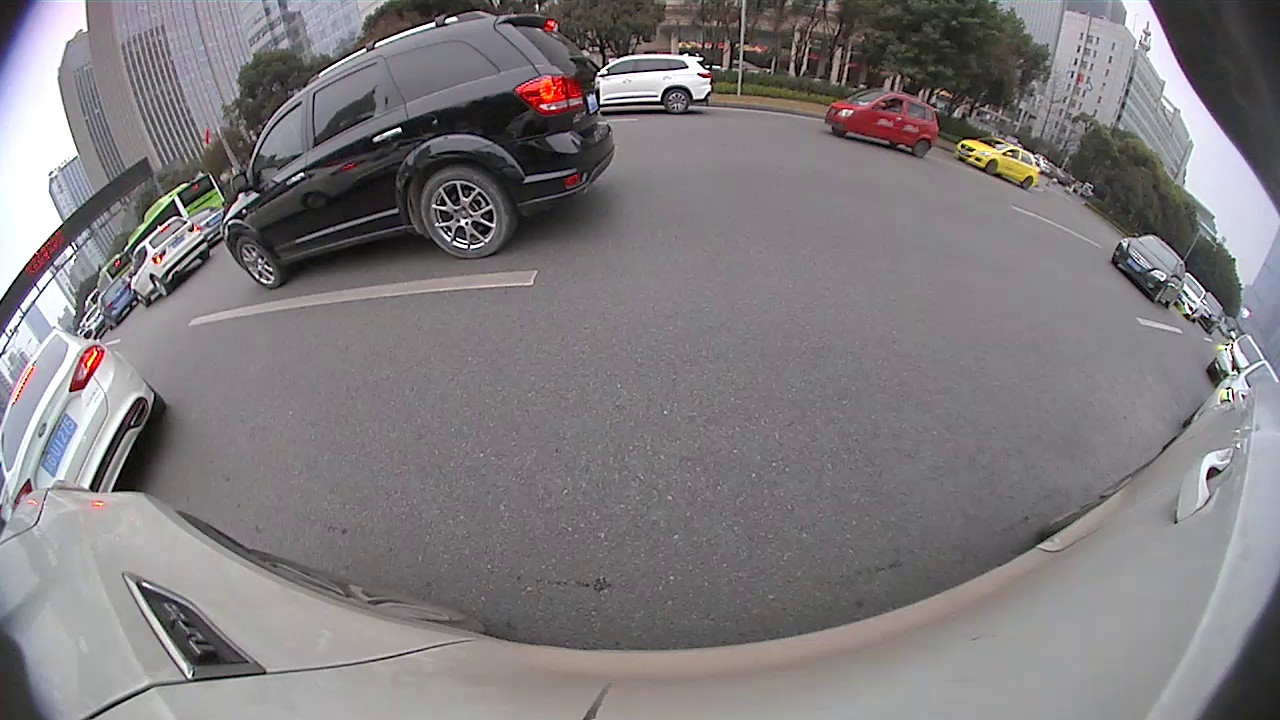car: (220, 7, 616, 292), (1, 324, 170, 507), (829, 90, 940, 156), (596, 54, 713, 116), (129, 217, 210, 306), (1109, 233, 1189, 310), (953, 133, 1042, 193)
front: (235, 233, 283, 290)
rear: (419, 164, 506, 258), (663, 88, 690, 114), (912, 141, 928, 160)
